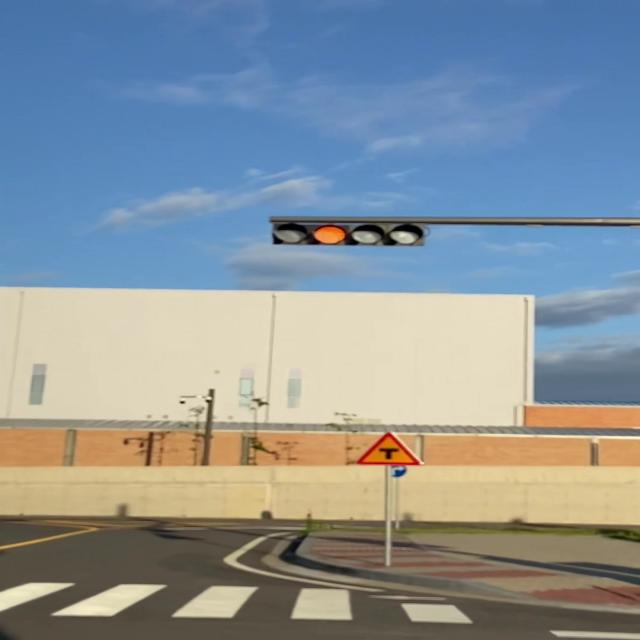yellow_light: (274, 224, 422, 245)
